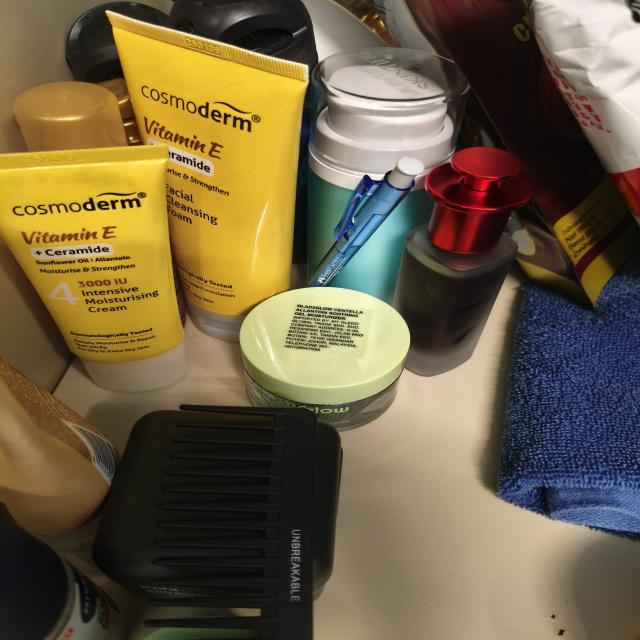pen: (304, 157, 422, 287)
